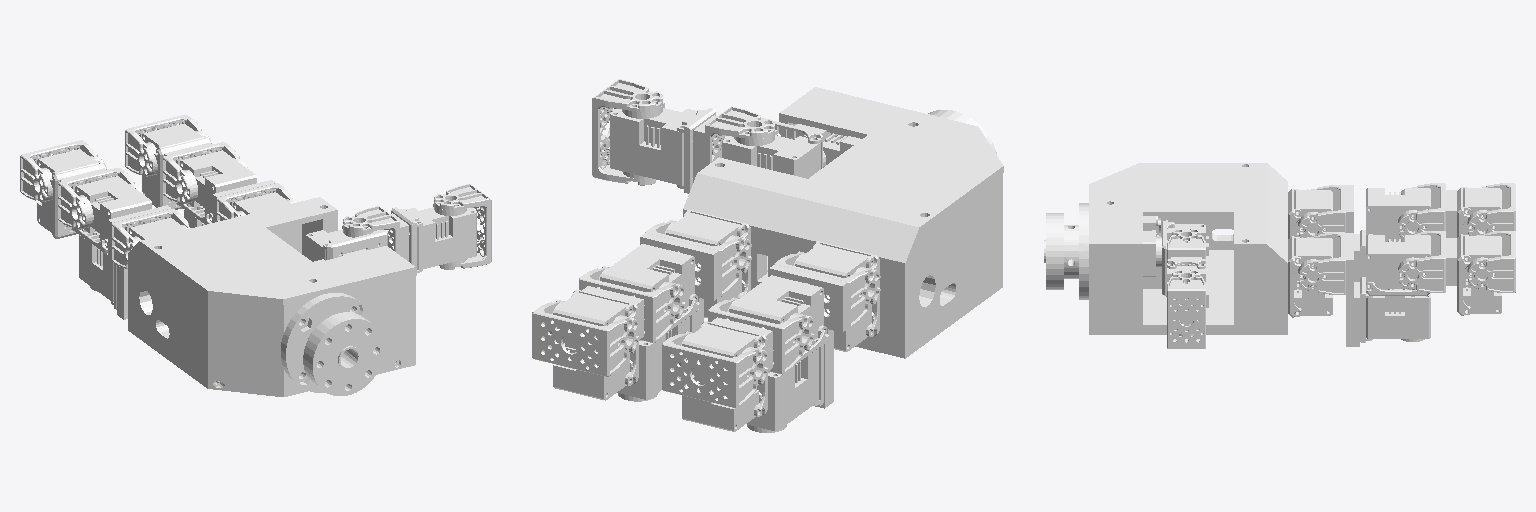
URDF robot description (GX11):
<?xml version="1.0" encoding="utf-8"?>
<!-- This URDF was automatically created by SolidWorks to URDF Exporter! Originally created by Stephen Brawner (brawner@gmail.com) 
     Commit Version: 1.6.0-4-g7f85cfe  Build Version: 1.6.7995.38578
     For more information, please see http://wiki.ros.org/sw_urdf_exporter -->
<robot
  name="GX11">
  <link
    name="base_link">
    <inertial>
      <origin
        xyz="-0.000164465254966286 0.0753636764228905 -0.000506878057324069"
        rpy="0 0 0" />
      <mass
        value="0.266277587847292" />
      <inertia
        ixx="0.000187302227077025"
        ixy="1.5370580827788E-05"
        ixz="6.53664500625844E-06"
        iyy="0.000234511583653576"
        iyz="-7.69527139734874E-06"
        izz="0.000333571603957182" />
    </inertial>
    <visual>
      <origin
        xyz="0 0 0"
        rpy="0 0 0" />
      <geometry>
        <mesh
          filename="meshes/base_link.STL" />
      </geometry>
      <material
        name="">
        <color
          rgba="1 1 1 1" />
      </material>
    </visual>
    <collision>
      <origin
        xyz="0 0 0"
        rpy="0 0 0" />
      <geometry>
        <mesh
          filename="meshes/base_link.STL" />
      </geometry>
    </collision>
  </link>
  <link
    name="link1">
    <inertial>
      <origin
        xyz="-0.00806405790907332 -0.000279377679083986 -0.00113281933961043"
        rpy="0 0 0" />
      <mass
        value="0.0176678393044671" />
      <inertia
        ixx="1.47006653227034E-06"
        ixy="1.17278886070137E-08"
        ixz="4.36396719283536E-15"
        iyy="2.21216244462258E-06"
        iyz="-1.53911853230504E-16"
        izz="2.71458475514186E-06" />
    </inertial>
    <visual>
      <origin
        xyz="0 0 0"
        rpy="0 0 0" />
      <geometry>
        <mesh
          filename="meshes/link1.STL" />
      </geometry>
      <material
        name="">
        <color
          rgba="1 1 1 1" />
      </material>
    </visual>
    <collision>
      <origin
        xyz="0 0 0"
        rpy="0 0 0" />
      <geometry>
        <mesh
          filename="meshes/link1.STL" />
      </geometry>
    </collision>
  </link>
  <joint
    name="joint1"
    type="revolute">
    <origin
      xyz="0.0330000000000006 0.0735000000000002 0.0150000000000006"
      rpy="1.5707963267949 0 -3.14159265358979" />
    <parent
      link="base_link" />
    <child
      link="link1" />
    <axis
      xyz="0 0 -1" />
    <limit
      lower="-0.349"
      upper="2.049"
      effort="0"
      velocity="0" />
  </joint>
  <link
    name="link2">
    <inertial>
      <origin
        xyz="0.0364441226647731 1.69664629567912E-14 -0.000227157618897906"
        rpy="0 0 0" />
      <mass
        value="0.021729405455091" />
      <inertia
        ixx="2.15176535186668E-06"
        ixy="5.80286874153467E-18"
        ixz="-1.17278836895553E-08"
        iyy="3.16845263970642E-06"
        iyz="1.34205099819563E-18"
        izz="2.34350105652615E-06" />
    </inertial>
    <visual>
      <origin
        xyz="0 0 0"
        rpy="0 0 0" />
      <geometry>
        <mesh
          filename="meshes/link2.STL" />
      </geometry>
      <material
        name="">
        <color
          rgba="1 1 1 1" />
      </material>
    </visual>
    <collision>
      <origin
        xyz="0 0 0"
        rpy="0 0 0" />
      <geometry>
        <mesh
          filename="meshes/link2.STL" />
      </geometry>
    </collision>
  </link>
  <joint
    name="joint2"
    type="revolute">
    <origin
      xyz="-0.015 0 0"
      rpy="1.5707963267949 0 3.14159265358979" />
    <parent
      link="link1" />
    <child
      link="link2" />
    <axis
      xyz="0 0 1" />
    <limit
      lower="-1.9"
      upper="1.2"
      effort="0"
      velocity="0" />
  </joint>
  <link
    name="link3">
    <inertial>
      <origin
        xyz="0.0100787253876422 2.82144967111986E-13 -1.36311968657044E-12"
        rpy="0 0 0" />
      <mass
        value="0.00246574345897091" />
      <inertia
        ixx="5.18359333243009E-07"
        ixy="3.43589587907983E-18"
        ixz="-2.71094054875865E-17"
        iyy="5.59493403624435E-07"
        iyz="2.78028007694911E-18"
        izz="2.11674207292557E-07" />
    </inertial>
    <visual>
      <origin
        xyz="0 0 0"
        rpy="0 0 0" />
      <geometry>
        <mesh
          filename="meshes/link3.STL" />
      </geometry>
      <material
        name="">
        <color
          rgba="1 1 1 1" />
      </material>
    </visual>
    <collision>
      <origin
        xyz="0 0 0"
        rpy="0 0 0" />
      <geometry>
        <mesh
          filename="meshes/link3.STL" />
      </geometry>
    </collision>
  </link>
  <joint
    name="joint3"
    type="revolute">
    <origin
      xyz="0.0505 0 0"
      rpy="0 0 0" />
    <parent
      link="link2" />
    <child
      link="link3" />
    <axis
      xyz="0 0 1" />
    <limit
      lower="-1.88"
      upper="1.34"
      effort="0"
      velocity="0" />
  </joint>
  <link
    name="link4">
    <inertial>
      <origin
        xyz="0.0343877567351039 -0.0218255061736887 -1.15761566998884E-13"
        rpy="0 0 0" />
      <mass
        value="0.0259800201623954" />
      <inertia
        ixx="3.93599324991521E-06"
        ixy="5.40235204916179E-08"
        ixz="-2.949285819455E-17"
        iyy="3.03368719937256E-06"
        iyz="4.16597072590372E-18"
        izz="4.29362563855091E-06" />
    </inertial>
    <visual>
      <origin
        xyz="0 0 0"
        rpy="0 0 0" />
      <geometry>
        <mesh
          filename="meshes/link4.STL" />
      </geometry>
      <material
        name="">
        <color
          rgba="1 1 1 1" />
      </material>
    </visual>
    <collision>
      <origin
        xyz="0 0 0"
        rpy="0 0 0" />
      <geometry>
        <mesh
          filename="meshes/link4.STL" />
      </geometry>
    </collision>
  </link>
  <joint
    name="joint4"
    type="revolute">
    <origin
      xyz="0.0330300000000006 0.139 0.00850000000000064"
      rpy="1.5707963267949 0 1.5707963267949" />
    <parent
      link="base_link" />
    <child
      link="link4" />
    <axis
      xyz="0 0 1" />
    <limit
      lower="-0.314"
      upper="2.23"
      effort="0"
      velocity="0" />
  </joint>
  <link
    name="link5">
    <inertial>
      <origin
        xyz="-0.00693594209092663 -0.000279377685954034 0.0118671806603896"
        rpy="0 0 0" />
      <mass
        value="0.0176678393044671" />
      <inertia
        ixx="1.47006653227034E-06"
        ixy="-1.17278787190915E-08"
        ixz="-4.36396490918008E-15"
        iyy="2.21216244462258E-06"
        iyz="1.53911597174954E-16"
        izz="2.71458475514186E-06" />
    </inertial>
    <visual>
      <origin
        xyz="0 0 0"
        rpy="0 0 0" />
      <geometry>
        <mesh
          filename="meshes/link5.STL" />
      </geometry>
      <material
        name="">
        <color
          rgba="1 1 1 1" />
      </material>
    </visual>
    <collision>
      <origin
        xyz="0 0 0"
        rpy="0 0 0" />
      <geometry>
        <mesh
          filename="meshes/link5.STL" />
      </geometry>
    </collision>
  </link>
  <joint
    name="joint5"
    type="revolute">
    <origin
      xyz="0.0515 -0.0119999999999999 0"
      rpy="-1.5707963267949 0 0" />
    <parent
      link="link4" />
    <child
      link="link5" />
    <axis
      xyz="0 0 -1" />
    <limit
      lower="-1.047"
      upper="1.047"
      effort="0"
      velocity="0" />
  </joint>
  <link
    name="link6">
    <inertial>
      <origin
        xyz="0.0306969035122455 -0.00550289582695564 -0.000221655001767691"
        rpy="0 0 0" />
      <mass
        value="0.0222688407505917" />
      <inertia
        ixx="3.39223294772673E-06"
        ixy="4.35938737995605E-15"
        ixz="-1.26854669454519E-16"
        iyy="2.14774478329264E-06"
        iyz="-1.1727878716268E-08"
        izz="2.47775221178215E-06" />
    </inertial>
    <visual>
      <origin
        xyz="0 0 0"
        rpy="0 0 0" />
      <geometry>
        <mesh
          filename="meshes/link6.STL" />
      </geometry>
      <material
        name="">
        <color
          rgba="1 1 1 1" />
      </material>
    </visual>
    <collision>
      <origin
        xyz="0 0 0"
        rpy="0 0 0" />
      <geometry>
        <mesh
          filename="meshes/link6.STL" />
      </geometry>
    </collision>
  </link>
  <joint
    name="joint6"
    type="revolute">
    <origin
      xyz="0 0 0.013"
      rpy="1.5707963267949 0 0" />
    <parent
      link="link5" />
    <child
      link="link6" />
    <axis
      xyz="0 0 1" />
    <limit
      lower="-0.506"
      upper="1.885"
      effort="0"
      velocity="0" />
  </joint>
  <link
    name="link7">
    <inertial>
      <origin
        xyz="0.0100787253876422 -2.8215624281458E-13 1.36310407405915E-12"
        rpy="0 0 0" />
      <mass
        value="0.00246574345897091" />
      <inertia
        ixx="5.18359333243008E-07"
        ixy="-3.43607326214373E-18"
        ixz="2.71095720130504E-17"
        iyy="5.59493403624435E-07"
        iyz="2.78057194324107E-18"
        izz="2.11674207292557E-07" />
    </inertial>
    <visual>
      <origin
        xyz="0 0 0"
        rpy="0 0 0" />
      <geometry>
        <mesh
          filename="meshes/link7.STL" />
      </geometry>
      <material
        name="">
        <color
          rgba="1 1 1 1" />
      </material>
    </visual>
    <collision>
      <origin
        xyz="0 0 0"
        rpy="0 0 0" />
      <geometry>
        <mesh
          filename="meshes/link7.STL" />
      </geometry>
    </collision>
  </link>
  <joint
    name="joint7"
    type="revolute">
    <origin
      xyz="0.036 0 0"
      rpy="0 0 0" />
    <parent
      link="link6" />
    <child
      link="link7" />
    <axis
      xyz="0 0 1" />
    <limit
      lower="-0.366"
      upper="2.042"
      effort="0"
      velocity="0" />
  </joint>
  <link
    name="link8">
    <inertial>
      <origin
        xyz="-0.0343877567351039 0.0218255061737422 1.42993256124768E-13"
        rpy="0 0 0" />
      <mass
        value="0.0259800201623954" />
      <inertia
        ixx="3.93599324991522E-06"
        ixy="5.40235204847462E-08"
        ixz="-2.47259710429413E-17"
        iyy="3.03368719937256E-06"
        iyz="-4.16619485524084E-18"
        izz="4.29362563855092E-06" />
    </inertial>
    <visual>
      <origin
        xyz="0 0 0"
        rpy="0 0 0" />
      <geometry>
        <mesh
          filename="meshes/link8.STL" />
      </geometry>
      <material
        name="">
        <color
          rgba="1 1 1 1" />
      </material>
    </visual>
    <collision>
      <origin
        xyz="0 0 0"
        rpy="0 0 0" />
      <geometry>
        <mesh
          filename="meshes/link8.STL" />
      </geometry>
    </collision>
  </link>
  <joint
    name="joint8"
    type="revolute">
    <origin
      xyz="-0.0249999999999994 0.139 0.00850000000000061"
      rpy="-1.5707963267949 0 -1.5707963267949" />
    <parent
      link="base_link" />
    <child
      link="link8" />
    <axis
      xyz="0 0 1" />
    <limit
      lower="-0.314"
      upper="2.23"
      effort="0"
      velocity="0" />
  </joint>
  <link
    name="link9">
    <inertial>
      <origin
        xyz="0.00693594212201661 0.000279377679084022 0.0118671806603896"
        rpy="0 0 0" />
      <mass
        value="0.0176678393044671" />
      <inertia
        ixx="1.47006653227034E-06"
        ixy="-1.17278787190916E-08"
        ixz="-4.36396459472373E-15"
        iyy="2.21216244462258E-06"
        iyz="1.53911714305896E-16"
        izz="2.71458475514186E-06" />
    </inertial>
    <visual>
      <origin
        xyz="0 0 0"
        rpy="0 0 0" />
      <geometry>
        <mesh
          filename="meshes/link9.STL" />
      </geometry>
      <material
        name="">
        <color
          rgba="1 1 1 1" />
      </material>
    </visual>
    <collision>
      <origin
        xyz="0 0 0"
        rpy="0 0 0" />
      <geometry>
        <mesh
          filename="meshes/link9.STL" />
      </geometry>
    </collision>
  </link>
  <joint
    name="joint9"
    type="revolute">
    <origin
      xyz="-0.0515 0.012 0"
      rpy="1.5707963267949 0 0" />
    <parent
      link="link8" />
    <child
      link="link9" />
    <axis
      xyz="0 0 -1" />
    <limit
      lower="-1.047"
      upper="1.047"
      effort="0"
      velocity="0" />
  </joint>
  <link
    name="link10">
    <inertial>
      <origin
        xyz="0.0306969035122454 0.00550289582697077 -0.000221655007521429"
        rpy="0 0 0" />
      <mass
        value="0.0222688407505351" />
      <inertia
        ixx="3.3922329477228E-06"
        ixy="-4.36056551258483E-15"
        ixz="1.26802473339664E-16"
        iyy="2.1477447832925E-06"
        iyz="1.17278886097667E-08"
        izz="2.47775221177793E-06" />
    </inertial>
    <visual>
      <origin
        xyz="0 0 0"
        rpy="0 0 0" />
      <geometry>
        <mesh
          filename="meshes/link10.STL" />
      </geometry>
      <material
        name="">
        <color
          rgba="1 1 1 1" />
      </material>
    </visual>
    <collision>
      <origin
        xyz="0 0 0"
        rpy="0 0 0" />
      <geometry>
        <mesh
          filename="meshes/link10.STL" />
      </geometry>
    </collision>
  </link>
  <joint
    name="joint10"
    type="revolute">
    <origin
      xyz="0 0 0.013"
      rpy="-1.5707963267949 0 3.14159265358979" />
    <parent
      link="link9" />
    <child
      link="link10" />
    <axis
      xyz="0 0 -1" />
    <limit
      lower="-0.506"
      upper="1.885"
      effort="0"
      velocity="0" />
  </joint>
  <link
    name="link11">
    <inertial>
      <origin
        xyz="2.80899435656234E-13 -0.0100787253876489 -1.37449426840242E-12"
        rpy="0 0 0" />
      <mass
        value="0.00246574345898603" />
      <inertia
        ixx="5.59493403624487E-07"
        ixy="-3.43594459890773E-18"
        ixz="2.80799894689569E-18"
        iyy="5.18359333242988E-07"
        iyz="2.70749587590219E-17"
        izz="2.11674207292592E-07" />
    </inertial>
    <visual>
      <origin
        xyz="0 0 0"
        rpy="0 0 0" />
      <geometry>
        <mesh
          filename="meshes/link11.STL" />
      </geometry>
      <material
        name="">
        <color
          rgba="1 1 1 1" />
      </material>
    </visual>
    <collision>
      <origin
        xyz="0 0 0"
        rpy="0 0 0" />
      <geometry>
        <mesh
          filename="meshes/link11.STL" />
      </geometry>
    </collision>
  </link>
  <joint
    name="joint11"
    type="revolute">
    <origin
      xyz="0.036 0 0"
      rpy="0 0 1.5707963267949" />
    <parent
      link="link10" />
    <child
      link="link11" />
    <axis
      xyz="0 0 -1" />
    <limit
      lower="-0.366"
      upper="2.042"
      effort="0"
      velocity="0" />
  </joint>
</robot>

--- Facts derived from the render (not from the file) ---
Views: 3 orthographic renders of the robot side by side, from view 1: azimuth 30°, elevation 25°; view 2: azimuth 150°, elevation 25°; view 3: azimuth 270°, elevation 25°.
Robot: GX11 — 12 links, 11 joints (11 revolute); root link base_link; default pose: every joint at zero.
Links seen in each view (by area): view 1: base_link, link2, link10, link8, link6, link9, link5, link3, link1, link11, link7, link4; view 2: base_link, link2, link8, link10, link6, link4, link7, link11, link1, link5, link9, link3; view 3: base_link, link4, link6, link10, link5, link3, link9, link8, link7, link2, link11, link1.
Link boxes in pixels (left/top/right/bottom): base_link: left=128, top=192, right=415, bottom=396; link2: left=343, top=203, right=476, bottom=275; link10: left=37, top=149, right=143, bottom=238; link8: left=79, top=205, right=189, bottom=319; link6: left=142, top=124, right=247, bottom=209; link9: left=72, top=176, right=151, bottom=253; link5: left=177, top=150, right=256, bottom=224; link3: left=434, top=184, right=491, bottom=269; link1: left=306, top=225, right=387, bottom=261; link11: left=20, top=140, right=104, bottom=202; link7: left=125, top=115, right=209, bottom=176; link4: left=184, top=180, right=294, bottom=227; base_link: left=665, top=87, right=1003, bottom=358; link2: left=610, top=103, right=774, bottom=193; link8: left=747, top=251, right=880, bottom=432; link10: left=678, top=297, right=814, bottom=431; link6: left=549, top=266, right=685, bottom=400; link4: left=617, top=220, right=751, bottom=401; link7: left=532, top=300, right=638, bottom=376; link11: left=662, top=331, right=767, bottom=407; link1: left=722, top=118, right=822, bottom=178; link5: left=598, top=244, right=699, bottom=332; link9: left=727, top=275, right=828, bottom=363; link3: left=592, top=79, right=662, bottom=185; base_link: left=1044, top=163, right=1332, bottom=334; link4: left=1298, top=232, right=1430, bottom=346; link6: left=1398, top=231, right=1501, bottom=315; link10: left=1398, top=183, right=1501, bottom=237; link5: left=1366, top=235, right=1430, bottom=295; link3: left=1167, top=270, right=1205, bottom=348; link9: left=1366, top=188, right=1430, bottom=241; link8: left=1298, top=185, right=1365, bottom=281; link7: left=1467, top=231, right=1515, bottom=292; link2: left=1167, top=228, right=1205, bottom=335; link11: left=1467, top=183, right=1515, bottom=235; link1: left=1162, top=220, right=1205, bottom=296.
Size in the robot's own frame: 0.1655 by 0.2435 by 0.0668 metres.
Meshes: 12 distinct files referenced, 12 mesh visuals loaded (12 binary STL).
